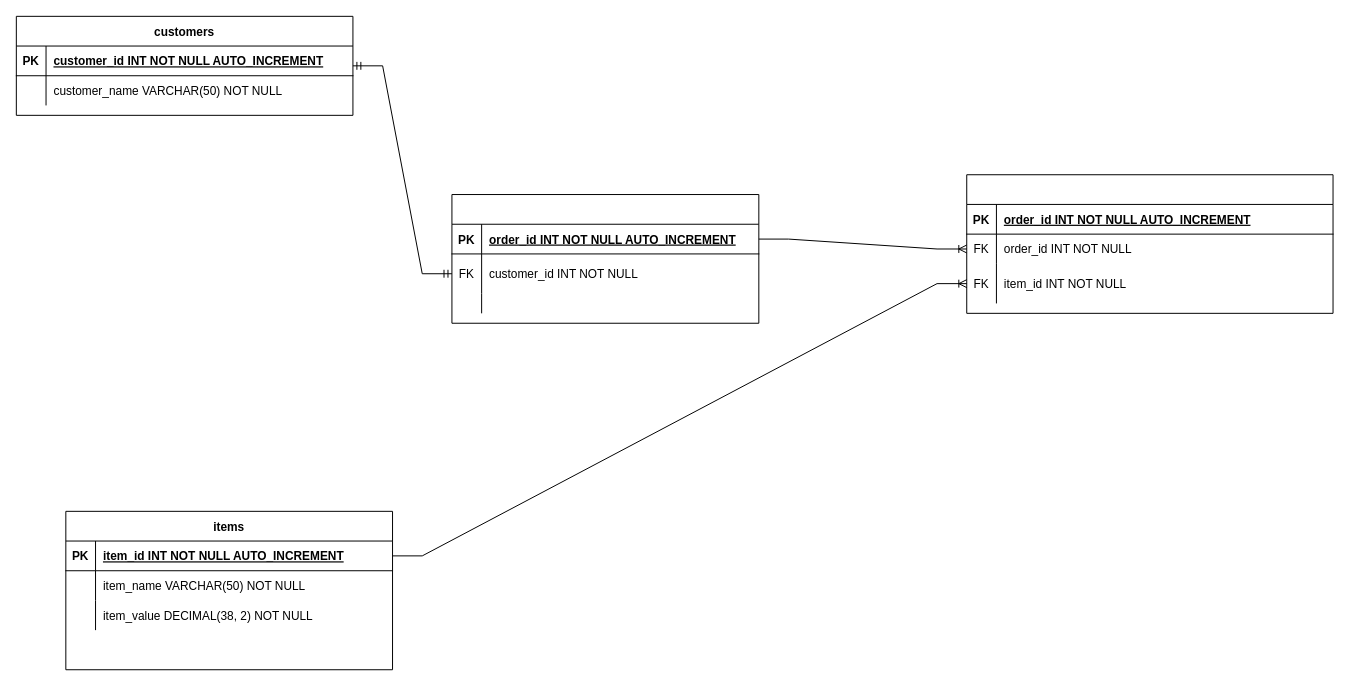
Some shapes in this 1349 by 686 pixel diagram are drawn without their labels. The box of each missing label's shape, as (x1, y1, x2, y2) in pixels:
order_items: (966, 174, 1333, 313)
orders: (451, 194, 759, 323)
